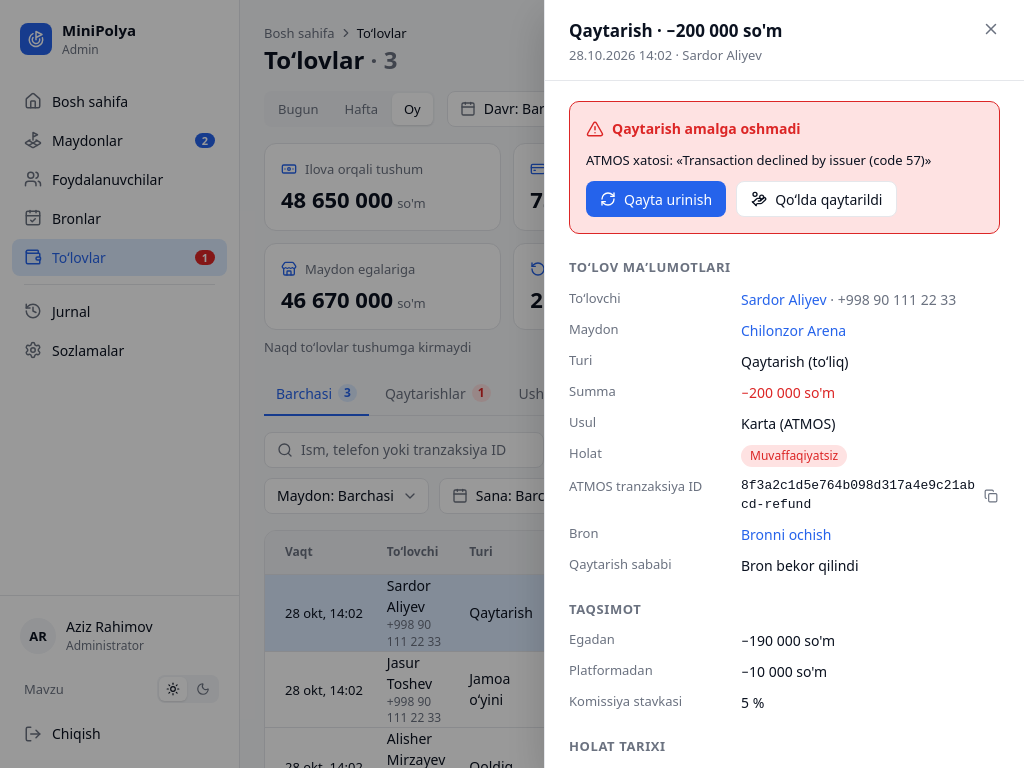
Test: Toʻlovlar › marks a failed refund as refunded by hand, with a required reason
Click the button "Qoʻlda qaytarildi" at (817,200), box [736,182,898,218]
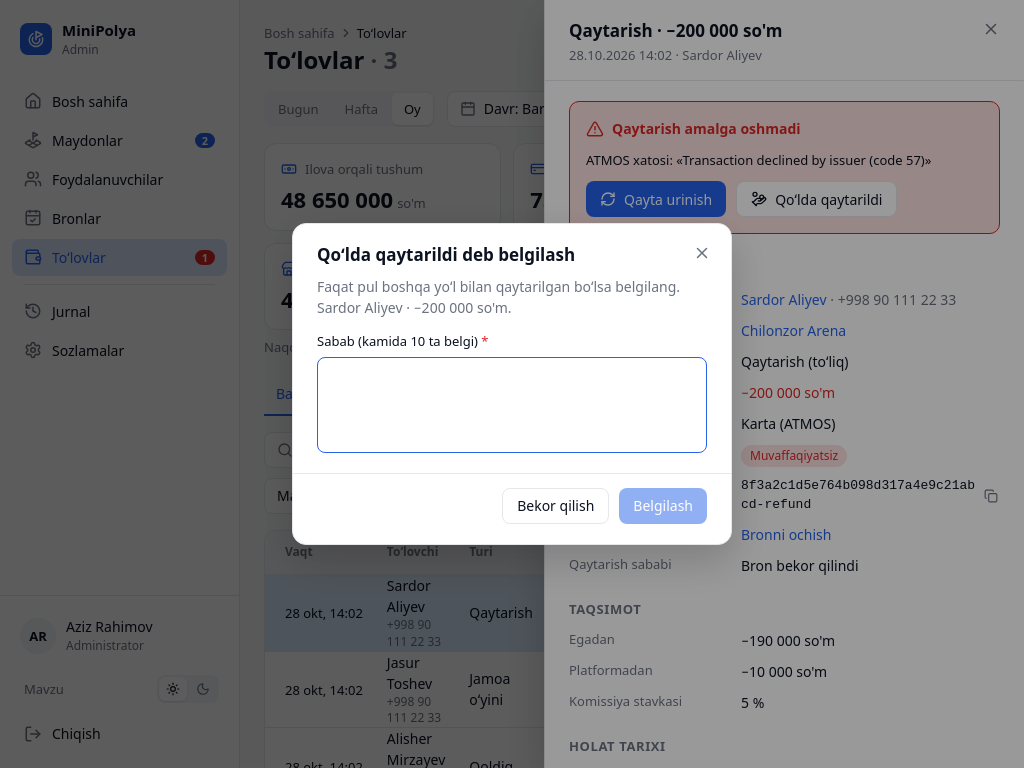
Check: the dialog "Qoʻlda qaytarildi deb belgilash" shows "Faqat pul boshqa yoʻl bilan qaytarilgan boʻlsa belgilang", box [317,278,680,318]
Type "naqd" into the text box at (512,405), box [317,357,707,453]
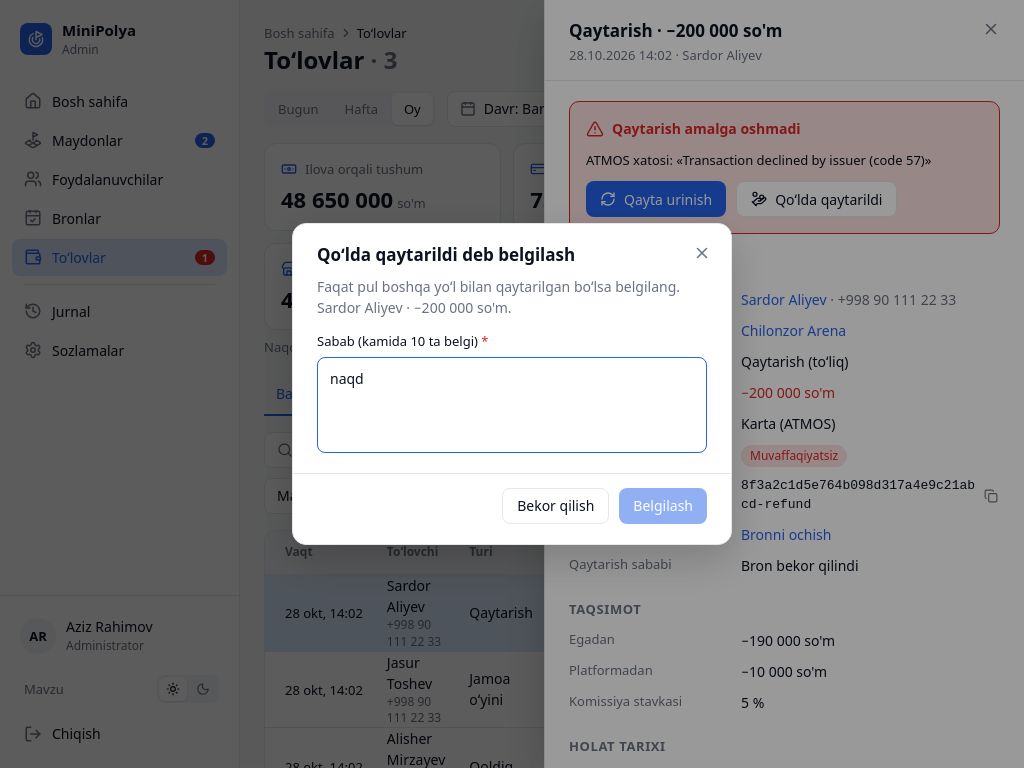
Check: the button "Belgilash" is disabled, box [619,488,707,524]
Replace the text in the text box with "Mijozga maydonda naqd qaytarildi" at (512,405), box [317,357,707,453]
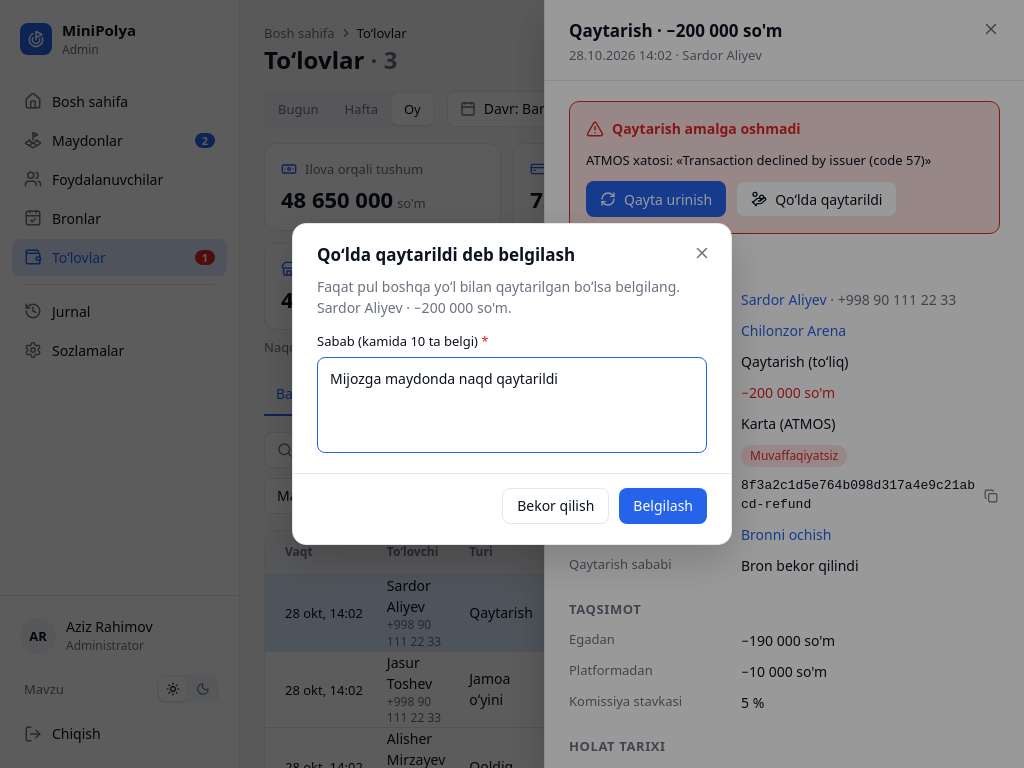
Click the button "Belgilash" at (663,506), box [619,488,707,524]
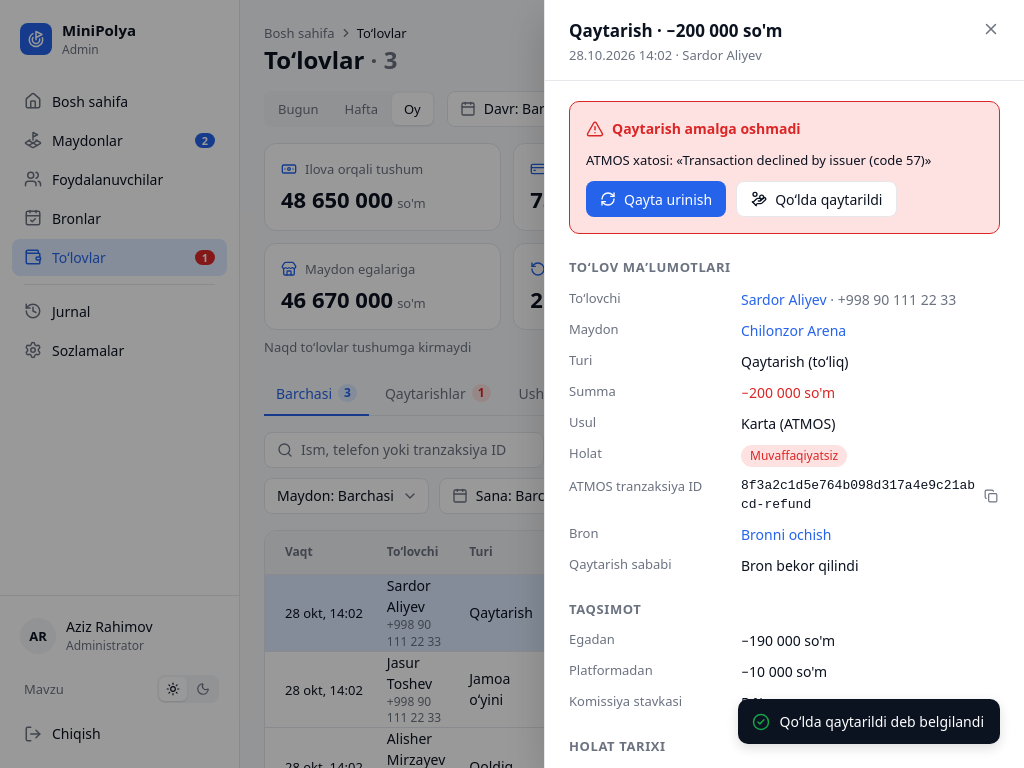
Check: the text "Qoʻlda qaytarildi deb belgilandi" is shown, box [780,711,984,732]
